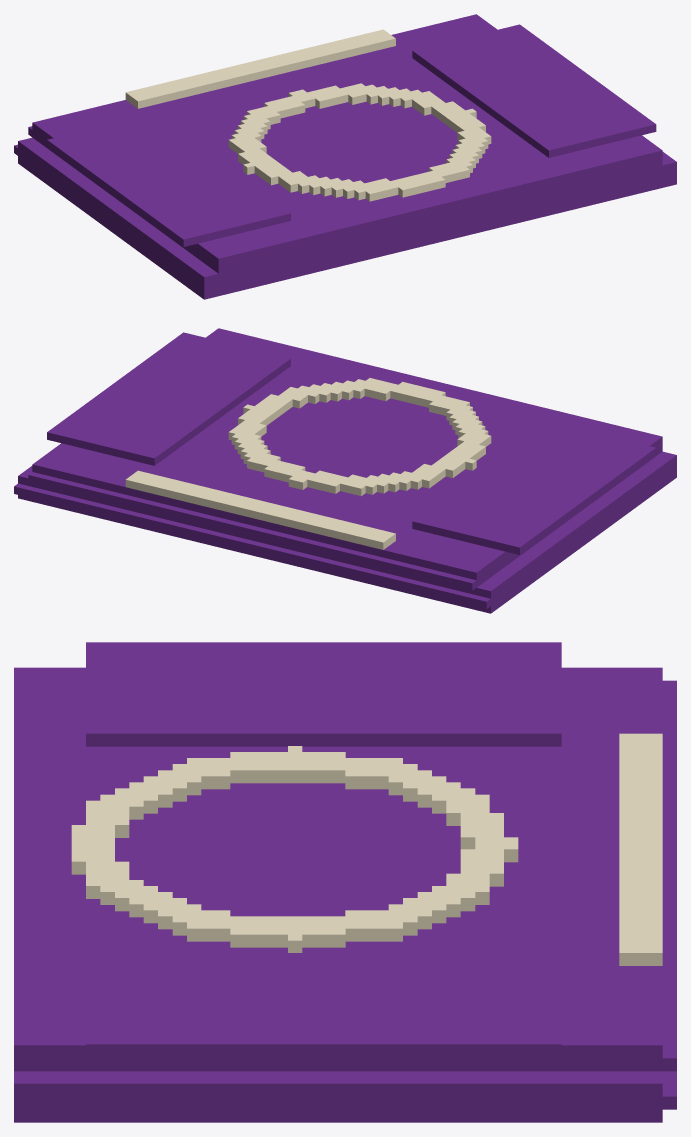
The model's file is tshirt_cropped.glb.
The picture shows the model from 3 angles, top to bottom: view 1: azimuth 30°, elevation 25°; view 2: azimuth 150°, elevation 25°; view 3: azimuth 270°, elevation 25°; orthographic projection. The views are drawn at different scales.
Visible parts, largest first — view 1: tshirt_cropped:compound; view 2: tshirt_cropped:compound; view 3: tshirt_cropped:compound.
Part boxes in pixels (x1=…): tshirt_cropped:compound: x1=14, y1=14, x2=676, y2=299; tshirt_cropped:compound: x1=14, y1=328, x2=676, y2=613; tshirt_cropped:compound: x1=14, y1=642, x2=676, y2=1122.
Size of the model in its own units: 0.264 by 0.024 by 0.184.
